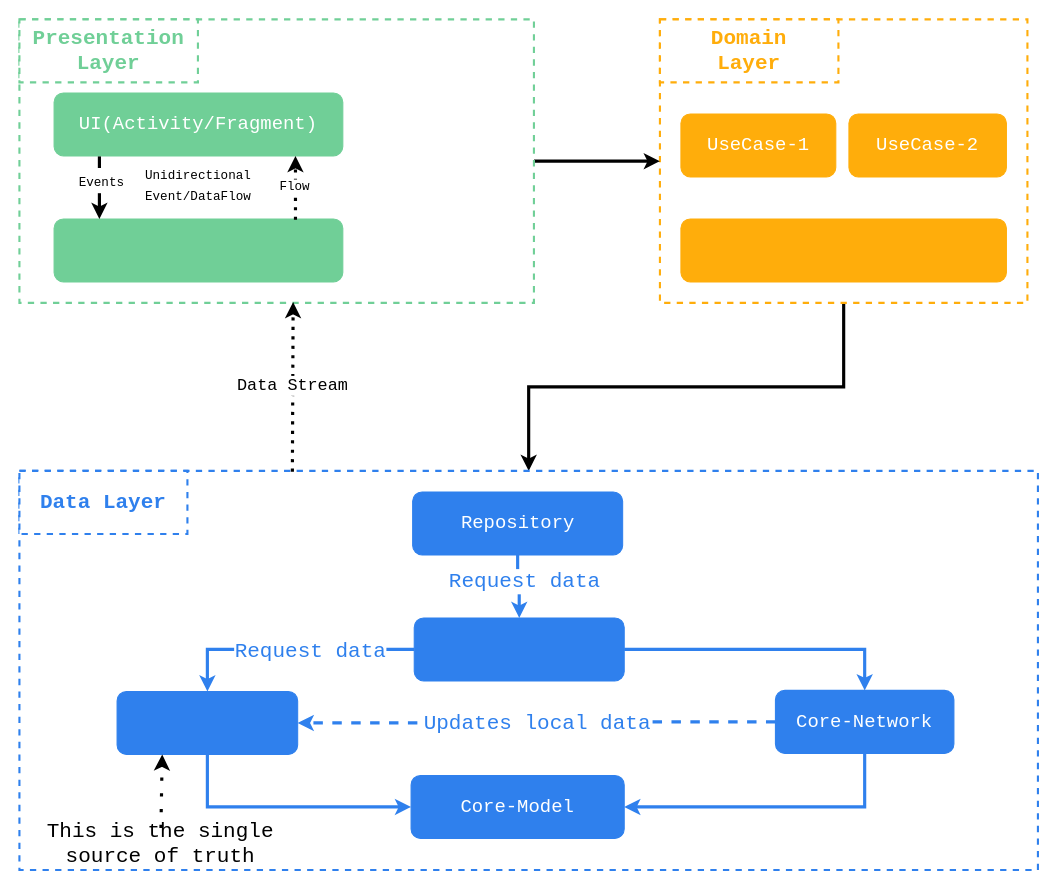
The diagram is 1056 pixels wide and 888 high, and some of its shapes have lost their labels. Each missing label, with the centre of its shape:
"Core-Database" goes at [207,722].
"Network Bound Resource" goes at [518,649].
"UseCase-n" goes at [843,250].
"ViewModel - StateFlow" goes at [198,250].
